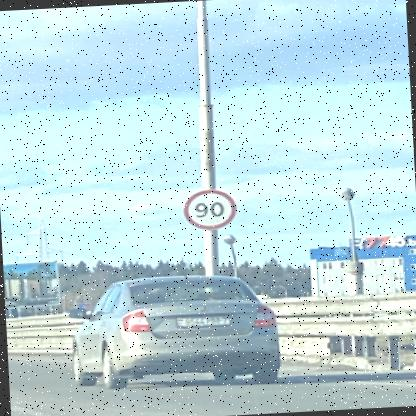speedlimit: (179, 187, 235, 230)
